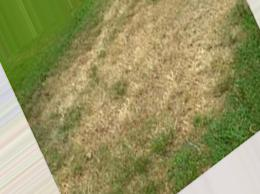patch: (67, 66, 123, 132), (133, 54, 191, 114), (156, 7, 208, 59), (177, 74, 224, 122), (103, 13, 146, 57), (65, 141, 106, 181), (131, 128, 161, 179)
